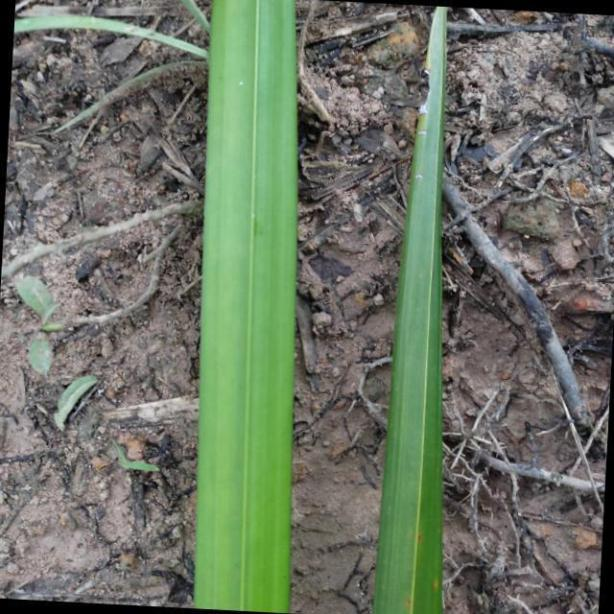nitrogen: (187, 0, 297, 614)
